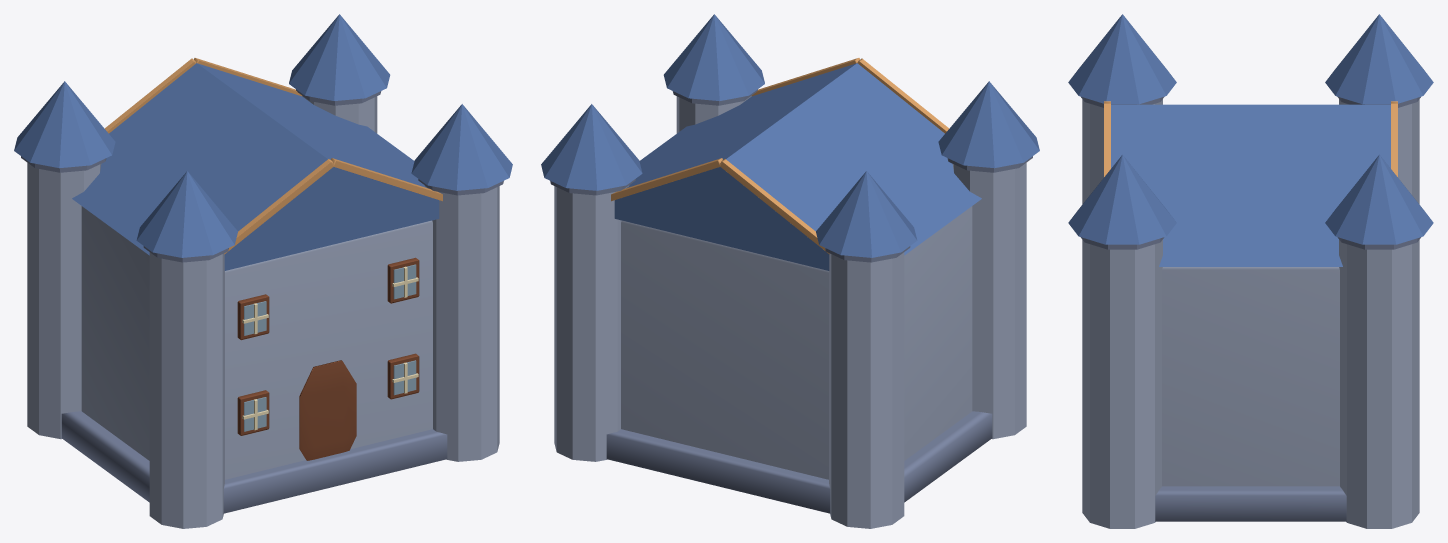
The model's file is castle_keep.glb.
3 views of the same model, side by side, from view 1: azimuth 30°, elevation 25°; view 2: azimuth 150°, elevation 25°; view 3: azimuth 270°, elevation 25° (orthographic). The views are drawn at different scales.
Visible parts, largest first — view 1: Keep walls, Pitched roof.010, Keep turret, Keep turret.002, Keep turret.001, Keep base, Turret roof, Turret roof.002, Turret roof.001, Turret roof.003, Keep door, Roof trim.040 (+8 smaller); view 2: Keep walls, Pitched roof.010, Keep turret.001, Keep turret.003, Keep turret, Keep base, Turret roof.001, Turret roof.003, Turret roof, Turret roof.002, Roof trim.042, Keep turret.002 (+3 smaller); view 3: Keep walls, Pitched roof.010, Keep turret.002, Keep turret.003, Keep base, Turret roof.002, Turret roof.003, Turret roof, Turret roof.001, Keep turret, Keep turret.001, Roof trim.041 (+3 smaller).
Part boxes in pixels (x1,y1,x2,y2): Keep walls: (81,206,432,479); Pitched roof.010: (72,63,439,270); Keep turret: (149,252,224,528); Keep turret.002: (424,185,499,461); Keep turret.001: (27,163,101,439); Keep base: (61,411,447,513); Turret roof: (136,171,237,257); Turret roof.002: (411,104,512,190); Turret roof.001: (14,81,115,168); Turret roof.003: (289,14,390,100); Keep door: (299,360,356,460); Roof trim.040: (224,159,333,254); Keep walls: (621,206,972,479); Pitched roof.010: (614,63,981,270); Keep turret.001: (829,252,904,528); Keep turret.003: (554,185,629,461); Keep turret: (952,163,1026,439); Keep base: (606,411,992,513); Turret roof.001: (816,171,917,257); Turret roof.003: (541,104,642,190); Turret roof: (938,81,1039,168); Turret roof.002: (663,14,764,100); Roof trim.042: (720,159,829,254); Keep turret.002: (676,96,751,133); Keep walls: (1162,267,1339,486); Pitched roof.010: (1111,104,1390,266); Keep turret.002: (1082,239,1162,528); Keep turret.003: (1339,239,1419,528); Keep base: (1155,486,1346,521); Turret roof.002: (1068,154,1176,244); Turret roof.003: (1325,154,1433,244); Turret roof: (1068,14,1176,104); Turret roof.001: (1325,14,1433,104); Keep turret: (1082,99,1162,204); Keep turret.001: (1339,99,1419,204); Roof trim.041: (1104,102,1110,176).
Bounding box in the file's own units: 8.65 × 7.85 × 7.26.
